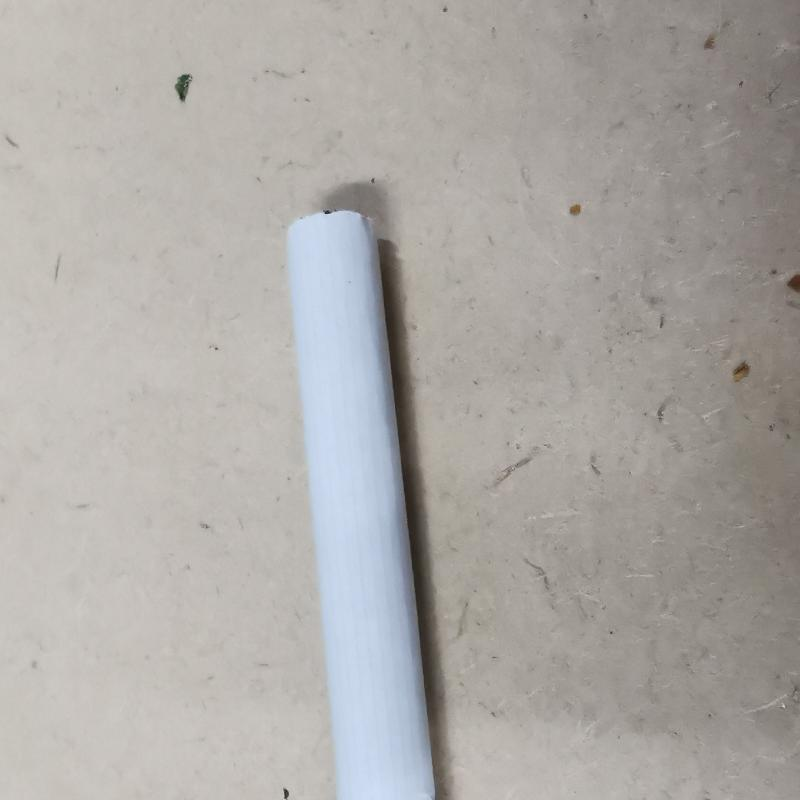cigarette: (277, 209, 449, 799)
